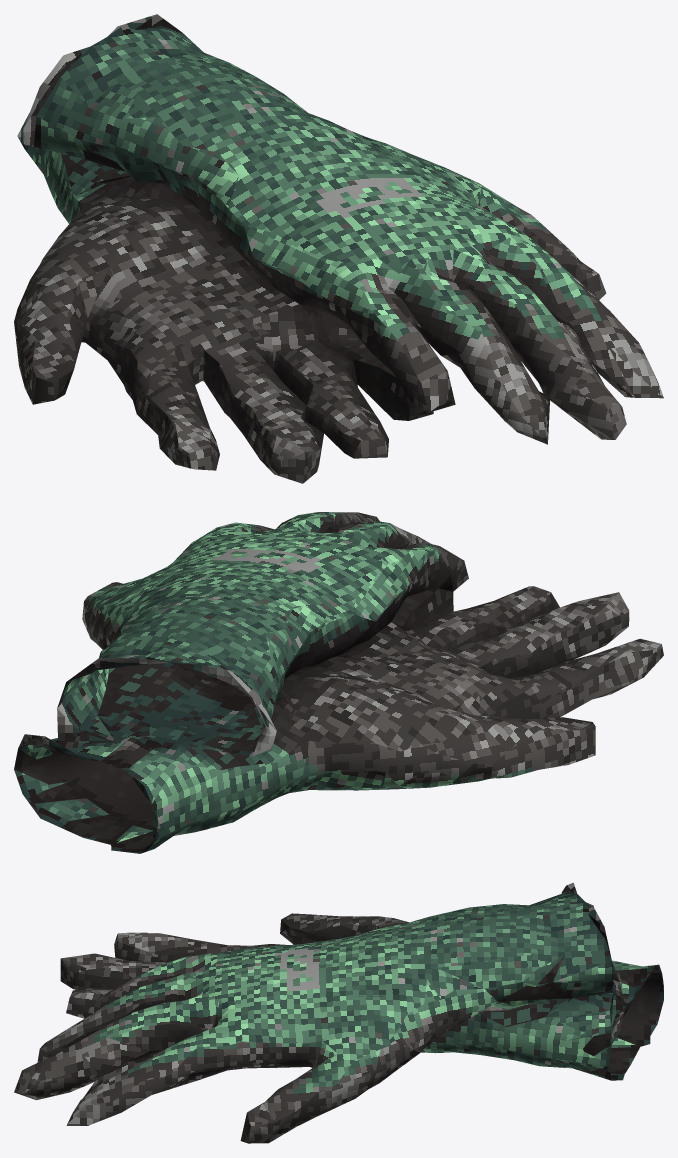
Rendered from garden_gloves_01.glb.
The picture shows the model from 3 angles, top to bottom: view 1: azimuth 30°, elevation 25°; view 2: azimuth 150°, elevation 25°; view 3: azimuth 270°, elevation 25°; orthographic projection. The views are drawn at different scales.
Parts seen in each view (by area): view 1: body; view 2: body; view 3: body.
Boxes of the visible parts, x1,y1,x2,y2 form: body: [14, 14, 663, 483]; body: [14, 512, 663, 853]; body: [14, 882, 663, 1143].
Bounding box in the file's own units: 0.2334 × 0.076 × 0.3075.
Materials: 1 (1 with a texture image).
